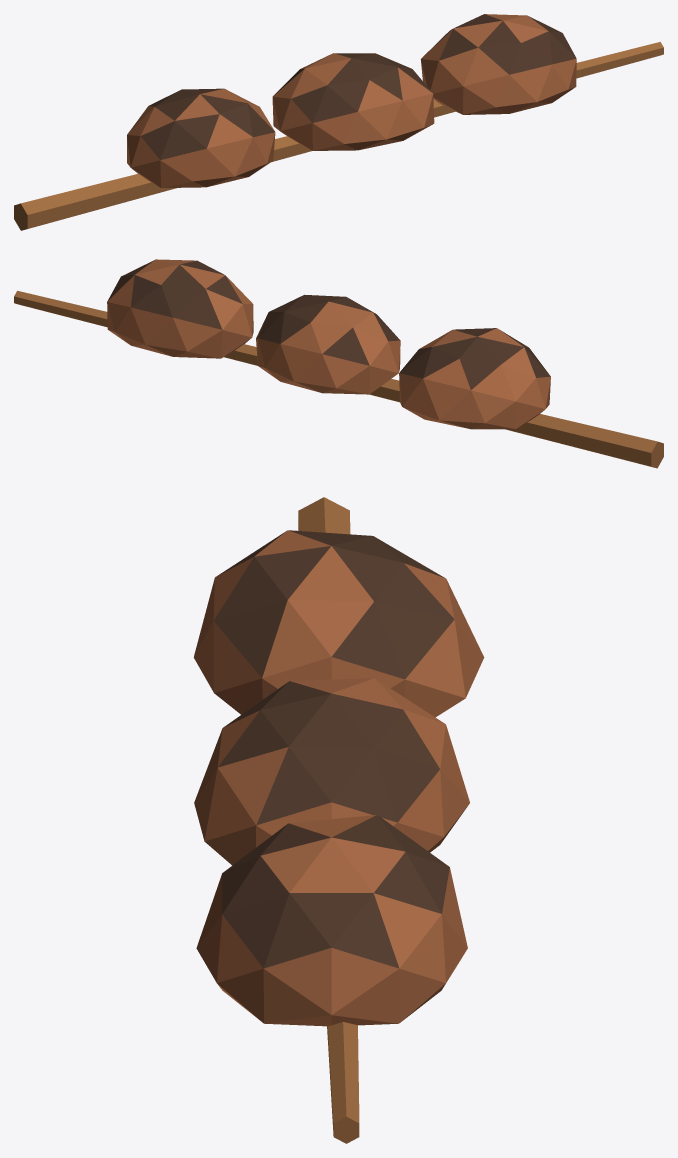
The model's file is meat_skewer.glb.
The picture shows the model from 3 angles, top to bottom: view 1: azimuth 30°, elevation 25°; view 2: azimuth 150°, elevation 25°; view 3: azimuth 270°, elevation 25°; orthographic projection. The views are drawn at different scales.
Parts seen in each view (by area): view 1: meat_skewer.001; view 2: meat_skewer.001; view 3: meat_skewer.001.
Boxes of the visible parts, <box> form: meat_skewer.001: <box>14,14,663,230</box>; meat_skewer.001: <box>14,259,663,468</box>; meat_skewer.001: <box>193,497,484,1143</box>.
Size of the model in its own units: 0.4 by 0.054 by 0.0793.
